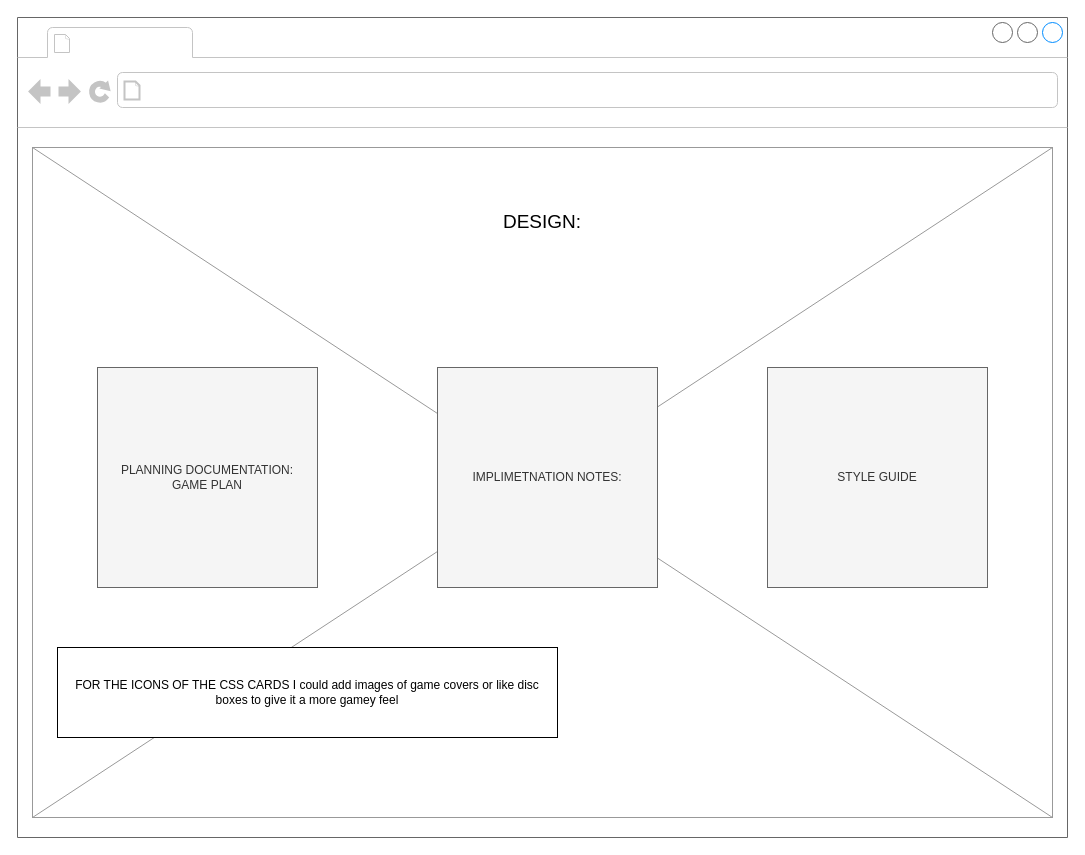
Image size: 1085x855. Some labels were removed from this diagram. Each missing label, with the centre of its shape:
Design: point (132, 42)
https://www.Fefe-IA assignment 1.com: point (272, 90)
